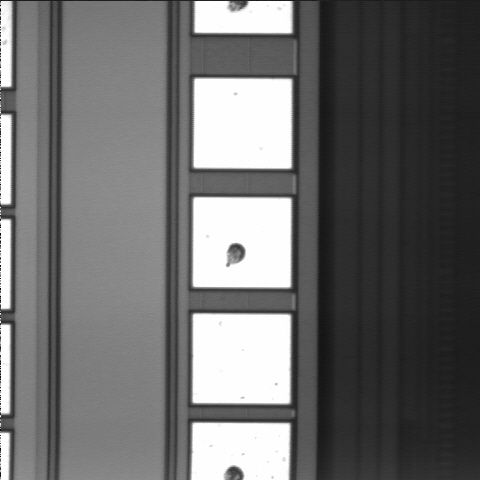pad: (194, 78, 292, 169), (193, 197, 291, 287), (193, 314, 291, 404)
